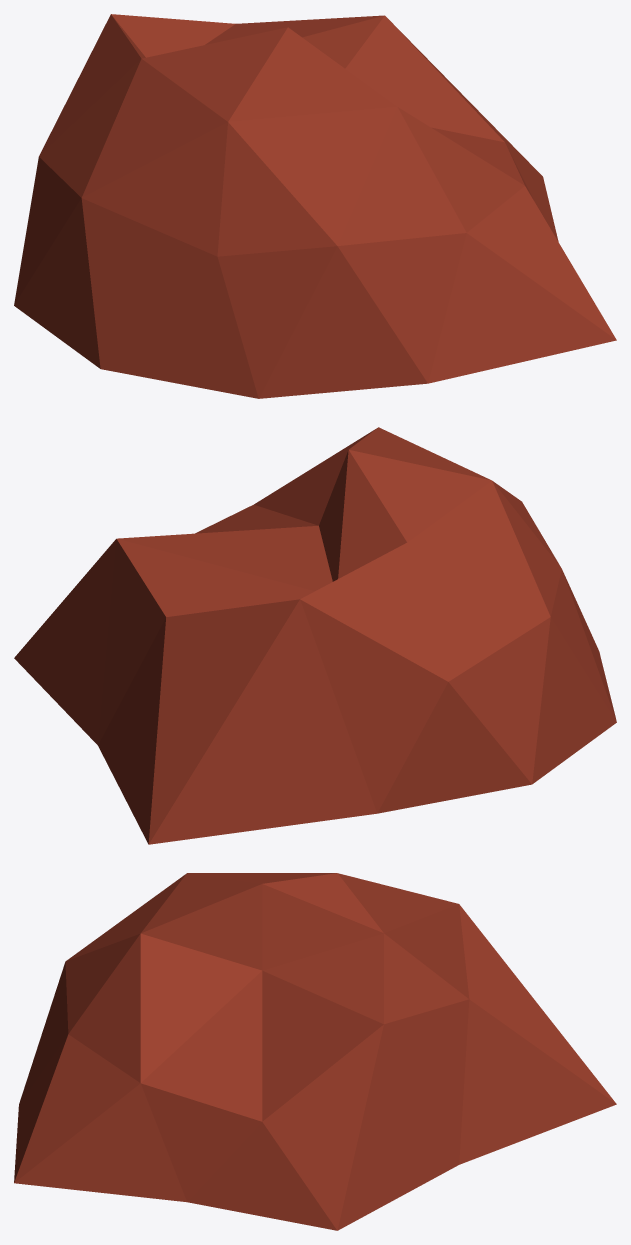
File: stenen2.fbx
3 renders of one model, top to bottom at view 1: azimuth 30°, elevation 25°; view 2: azimuth 150°, elevation 25°; view 3: azimuth 270°, elevation 25°, orthographic. The views are drawn at different scales.
Parts seen in each view (by area): view 1: Icosphere; view 2: Icosphere; view 3: Icosphere.
Boxes of the visible parts, x1,y1,x2,y2 form: Icosphere: (14,14,616,398); Icosphere: (14,427,616,844); Icosphere: (14,873,616,1230).
Bounding box in the file's own units: 218 × 100 × 248.
